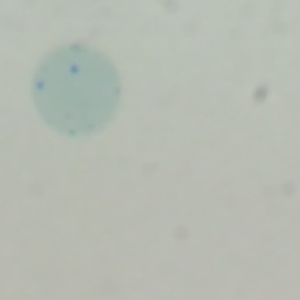punctate reticulocyte: (27, 42, 124, 140)
